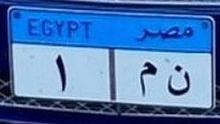1: (53, 54, 71, 93)
meem: (136, 58, 159, 101)
noon: (164, 57, 194, 100)
